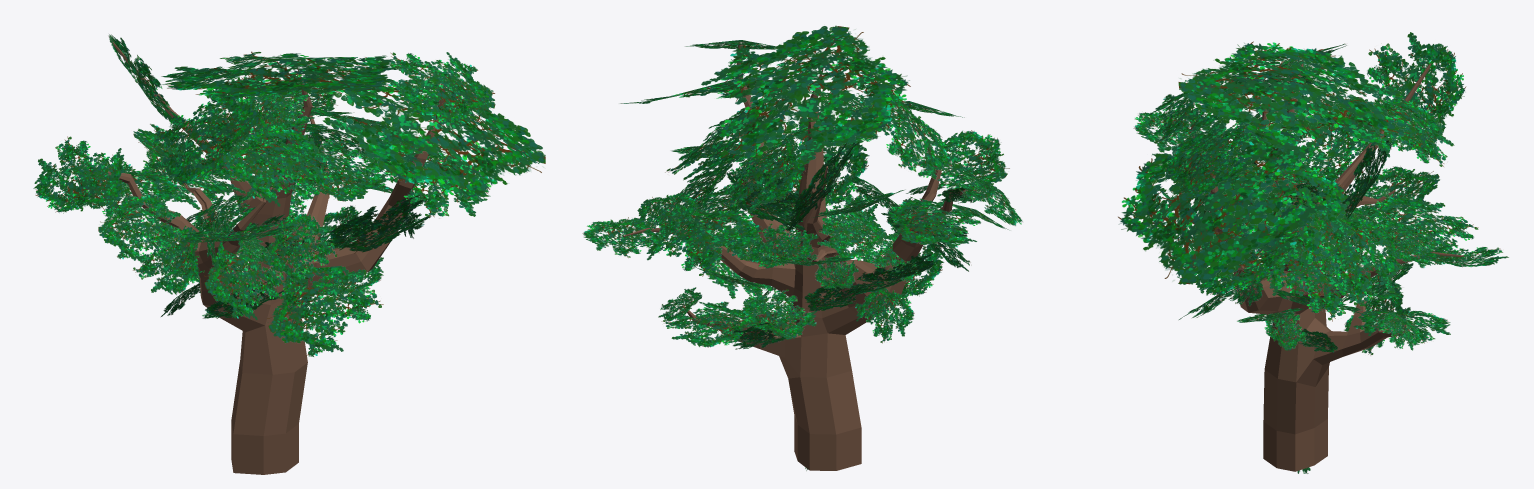
The model's file is residentialTreeLarge.glb.
The picture shows the model from 3 angles, left to right: view 1: azimuth 30°, elevation 25°; view 2: azimuth 150°, elevation 25°; view 3: azimuth 270°, elevation 25°; orthographic projection. The views are drawn at different scales.
Parts seen in each view (by area): view 1: tallTree, Plane.069, Plane.059, Plane.047, Plane.032, Plane.071, Plane.044, Plane.073, Plane.010, Plane.001, Plane.035, Plane.075 (+17 smaller); view 2: tallTree, Plane.059, Plane.045, Plane.003, Plane.057, Plane.068, Plane.032, Plane.058, Plane.017, Plane.056, Plane.064, Plane.036 (+23 smaller); view 3: Plane.069, Plane.059, tallTree, Plane.009, Plane.036, Plane.011, Plane.073, Plane.045, Plane.072, Plane.003, Plane.024, Plane.018 (+14 smaller).
Part boxes in pixels (bbox=[...]): tallTree: bbox=[101, 40, 445, 474]; Plane.069: bbox=[322, 61, 545, 198]; Plane.059: bbox=[162, 51, 413, 97]; Plane.047: bbox=[267, 265, 383, 356]; Plane.032: bbox=[151, 89, 259, 185]; Plane.071: bbox=[222, 125, 335, 206]; Plane.044: bbox=[33, 136, 132, 213]; Plane.073: bbox=[388, 52, 495, 124]; Plane.010: bbox=[204, 239, 288, 319]; Plane.001: bbox=[98, 194, 181, 262]; Plane.035: bbox=[263, 212, 337, 284]; Plane.075: bbox=[273, 138, 390, 201]; tallTree: bbox=[623, 43, 988, 470]; Plane.059: bbox=[701, 25, 910, 164]; Plane.045: bbox=[642, 208, 762, 276]; Plane.003: bbox=[720, 133, 806, 213]; Plane.057: bbox=[909, 130, 1009, 196]; Plane.068: bbox=[887, 198, 983, 248]; Plane.032: bbox=[859, 94, 951, 179]; Plane.058: bbox=[661, 301, 752, 347]; Plane.017: bbox=[741, 289, 816, 339]; Plane.056: bbox=[763, 111, 869, 221]; Plane.064: bbox=[817, 207, 887, 260]; Plane.036: bbox=[665, 98, 788, 180]; Plane.069: bbox=[1118, 118, 1325, 284]; Plane.059: bbox=[1178, 41, 1412, 158]; tallTree: bbox=[1189, 56, 1464, 471]; Plane.009: bbox=[1367, 32, 1466, 150]; Plane.036: bbox=[1215, 160, 1353, 265]; Plane.011: bbox=[1297, 208, 1402, 306]; Plane.073: bbox=[1165, 120, 1254, 198]; Plane.045: bbox=[1370, 194, 1478, 264]; Plane.072: bbox=[1262, 247, 1365, 321]; Plane.003: bbox=[1358, 97, 1454, 166]; Plane.024: bbox=[1284, 97, 1389, 187]; Plane.018: bbox=[1178, 215, 1303, 296].
Bounding box in the file's own units: 8.52 × 7.09 × 7.03.
Materials: 2 (1 with a texture image).
